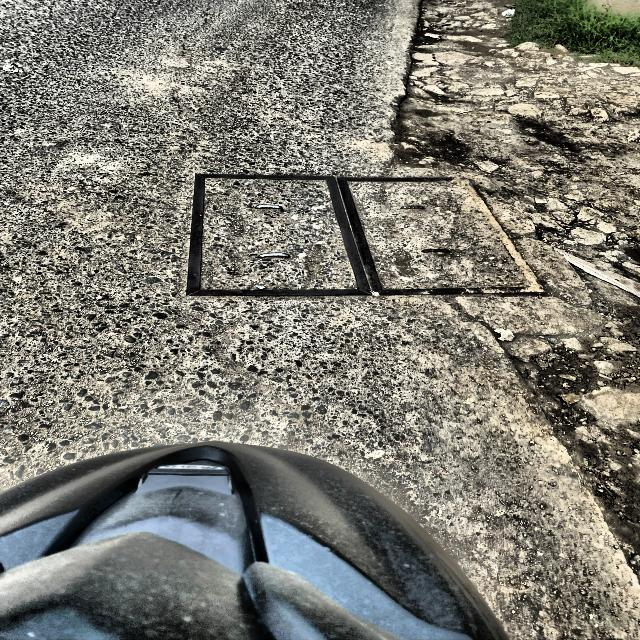major_scaling: (2, 299, 402, 449)
